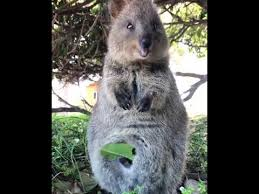quokka: (88, 1, 191, 194)
